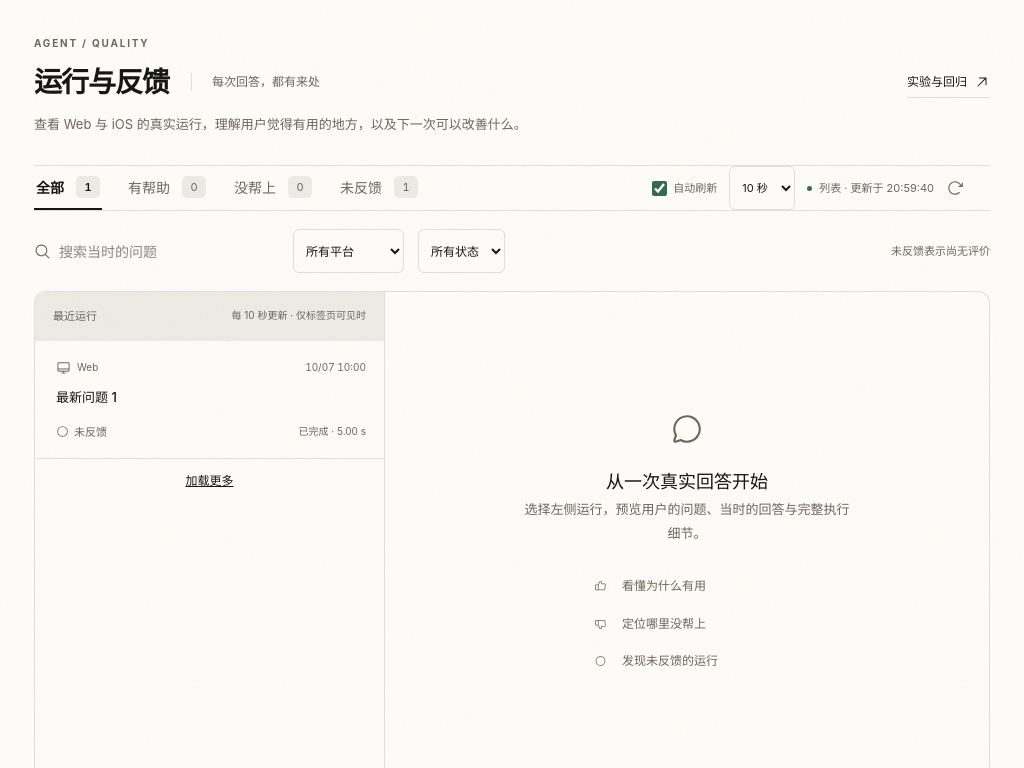
Test case: monitor refresh controls › returns to the latest list on manual refresh and resumes polling
Click the button "加载更多".
click(210, 481)  # box [35,459,384,503]
Wait 1 ms
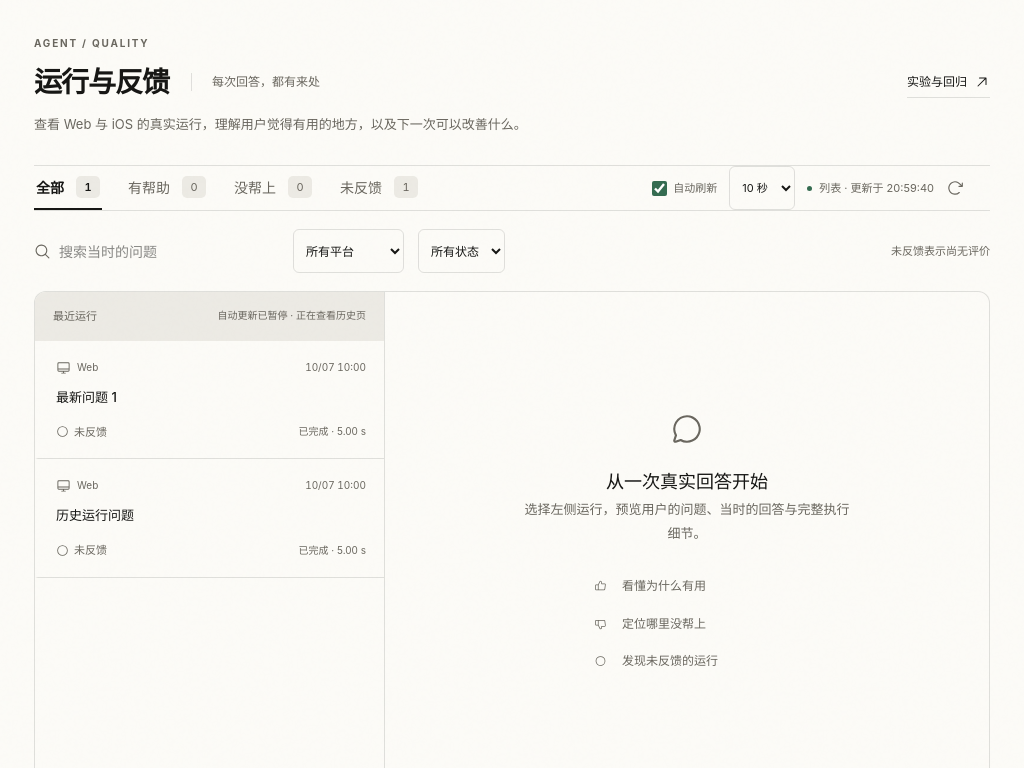
Now the text "历史运行问题" is shown, box [56,507,134,523]
Click the button named "刷新运行".
click(968, 188)  # box [946,166,990,210]
Wait 10502 ms
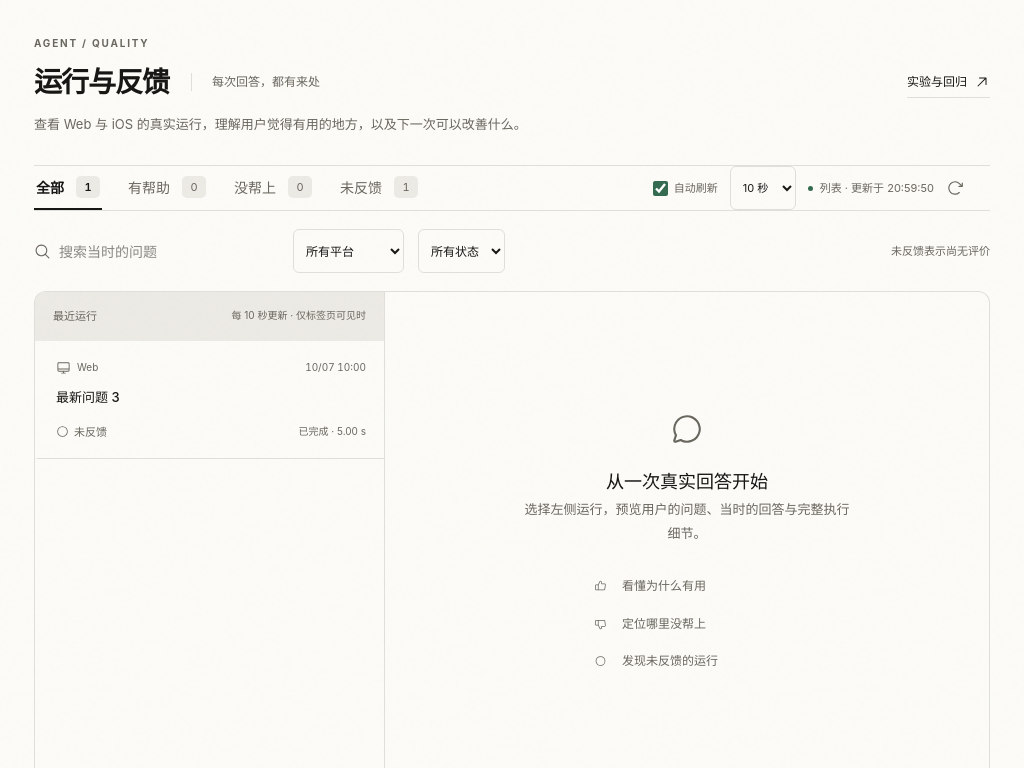
Expected: the text "最新问题" is shown, [56,389,120,405]
Now the text "历史运行问题" is gone
Now the text "每 10 秒更新" is shown, box [232,309,366,321]
